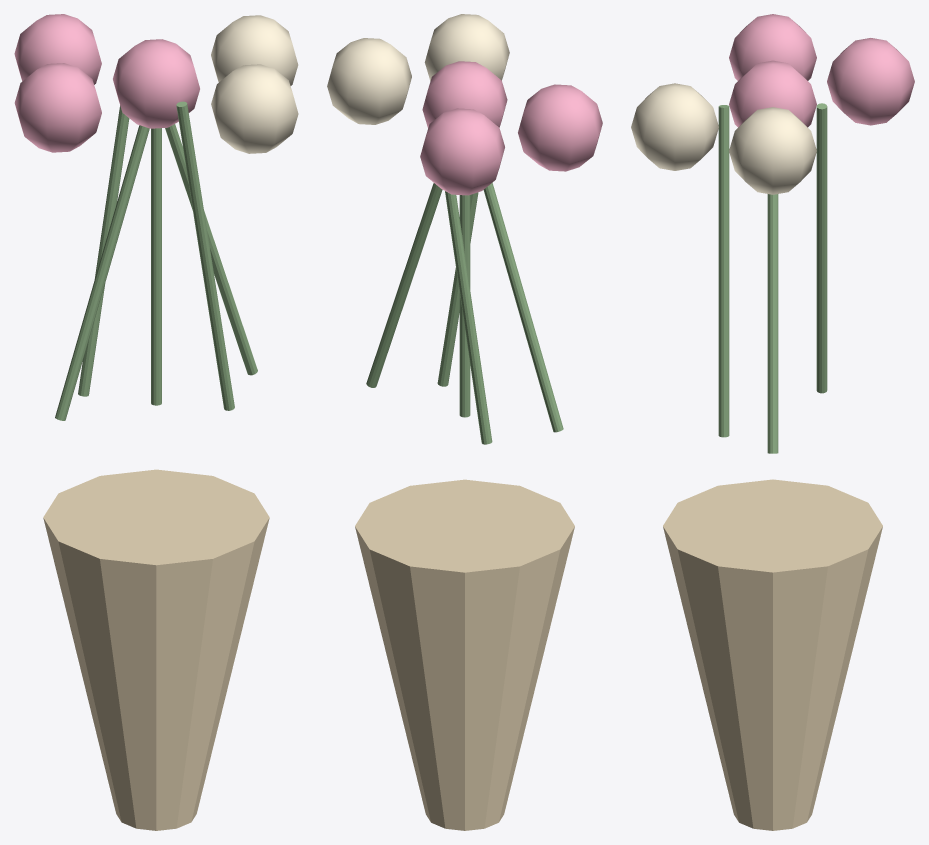
The model's file is flowers.glb.
3 renders of one model, left to right at view 1: azimuth 30°, elevation 25°; view 2: azimuth 150°, elevation 25°; view 3: azimuth 270°, elevation 25°, orthographic. The views are drawn at different scales.
Visible parts, largest first — view 1: flowers; view 2: flowers; view 3: flowers.
Boxes of the visible parts, x1,y1,x2,y2 form: flowers: (14, 14, 298, 830); flowers: (327, 14, 602, 830); flowers: (631, 14, 914, 830).
Bounding box in the file's own units: 0.126 × 0.338 × 0.116.
